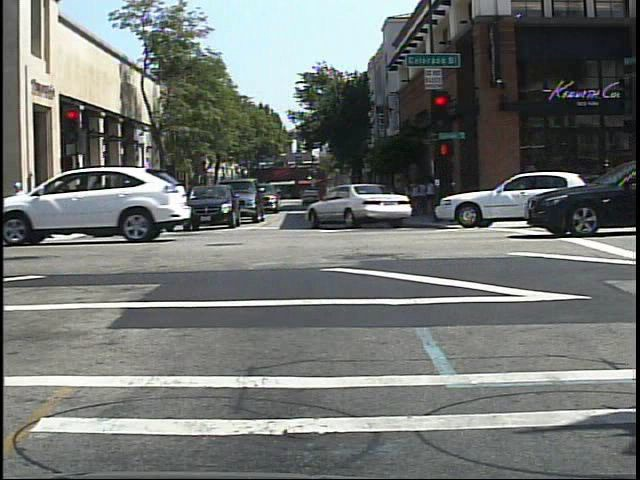person: (113, 180, 133, 222)
